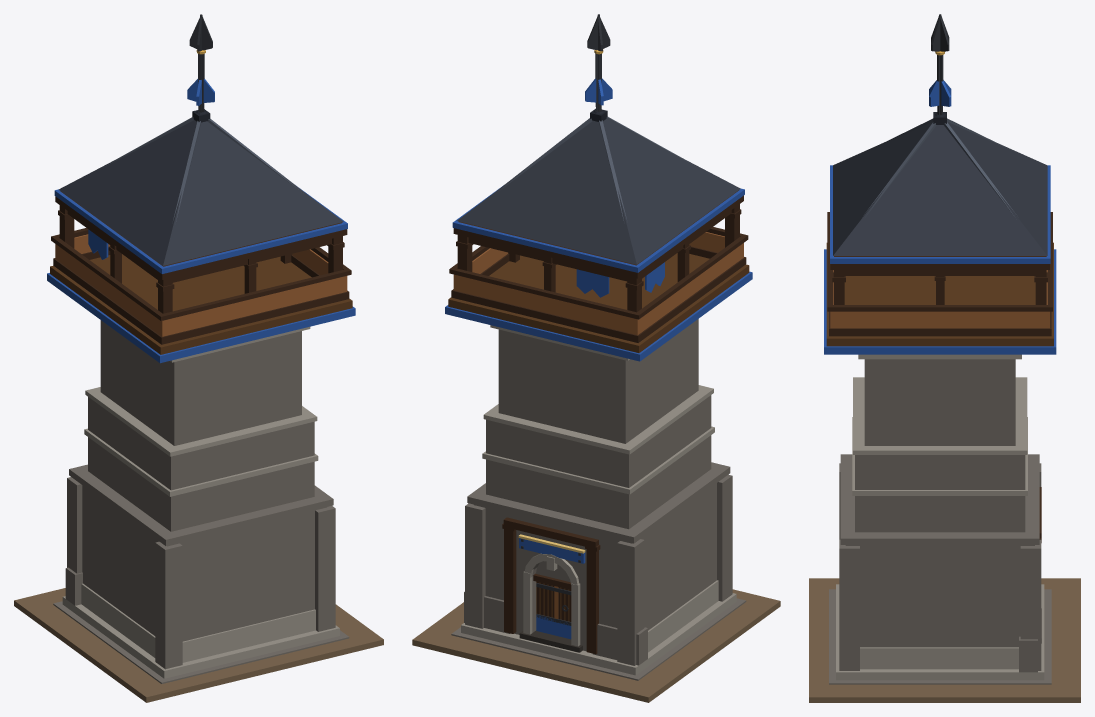
3 renders of one model, left to right at view 1: azimuth 30°, elevation 25°; view 2: azimuth 150°, elevation 25°; view 3: azimuth 270°, elevation 25°, orthographic. The views are drawn at different scales.
Parts seen in each view (by area): view 1: AT-主体, AT-team; view 2: AT-主体, AT-team; view 3: AT-主体, AT-team.
Boxes of the visible parts, x1,y1,x2,y2 form: AT-主体: (14, 14, 383, 702); AT-team: (47, 79, 355, 363); AT-主体: (412, 14, 780, 702); AT-team: (445, 78, 752, 639); AT-主体: (809, 14, 1080, 702); AT-team: (824, 80, 1056, 354).
Bounding box in the file's own units: 7.08 × 17.46 × 6.84.
Materials: 3 (1 with a texture image).
